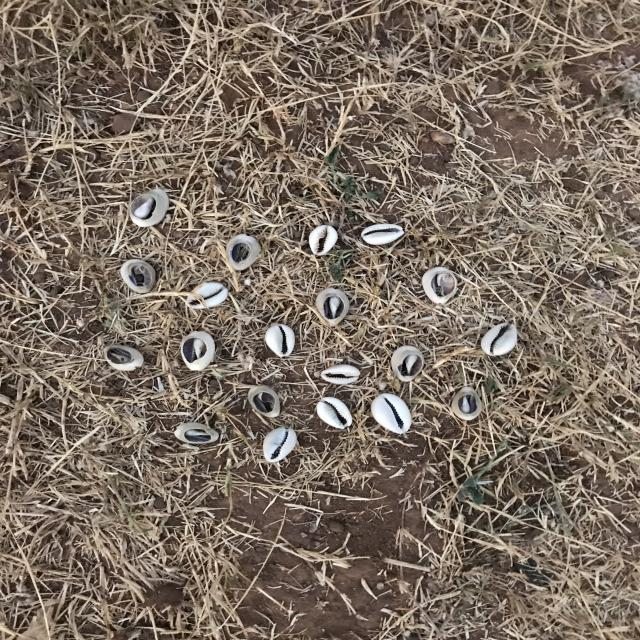facedown: (122, 185, 177, 229), (311, 280, 358, 330), (418, 264, 470, 309), (111, 254, 164, 298), (172, 329, 222, 374), (386, 343, 430, 386), (220, 233, 265, 273), (448, 384, 489, 427), (97, 343, 152, 375), (170, 417, 224, 448), (246, 382, 287, 421)
faceup: (366, 391, 419, 436), (182, 279, 236, 315), (259, 423, 302, 467), (312, 393, 360, 431), (256, 322, 304, 358), (478, 321, 522, 358), (356, 219, 409, 249), (304, 222, 344, 260), (315, 362, 367, 388)
